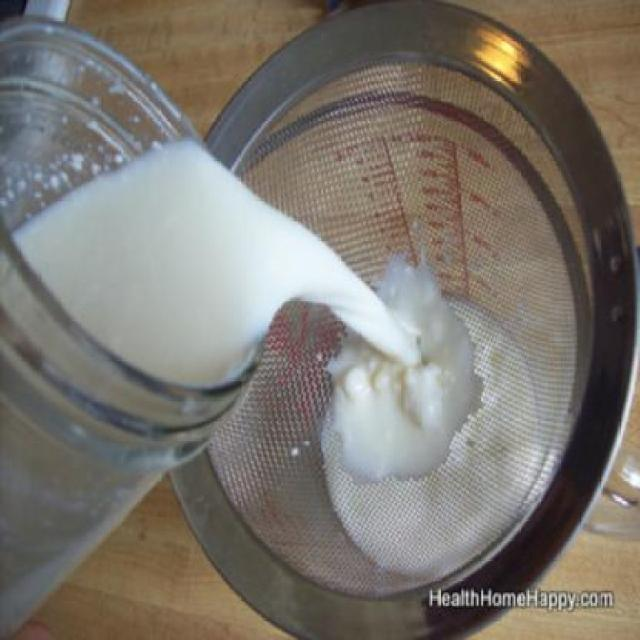Milk: (0, 130, 349, 638), (319, 297, 541, 585)
